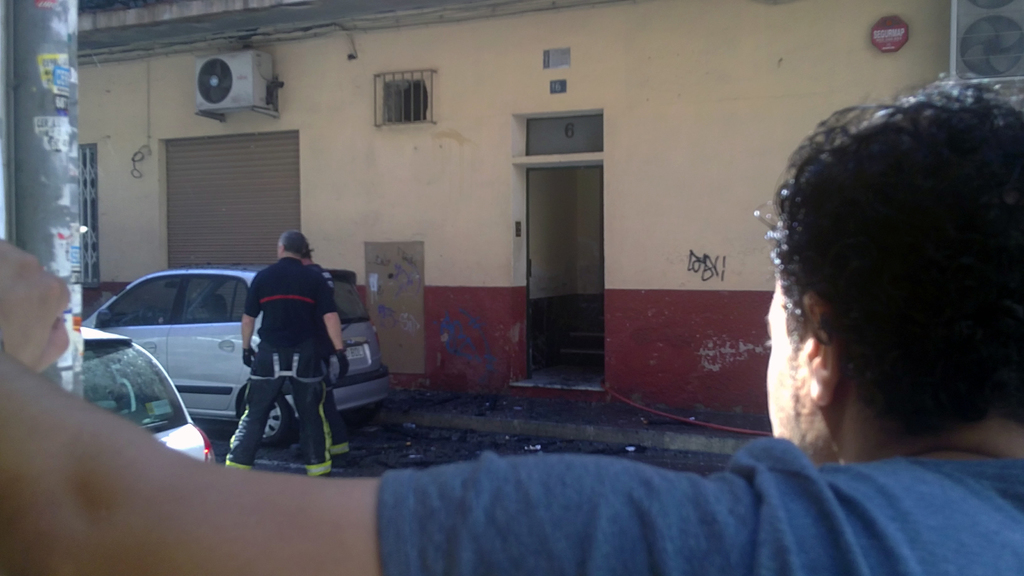cars: (69, 244, 388, 443)
